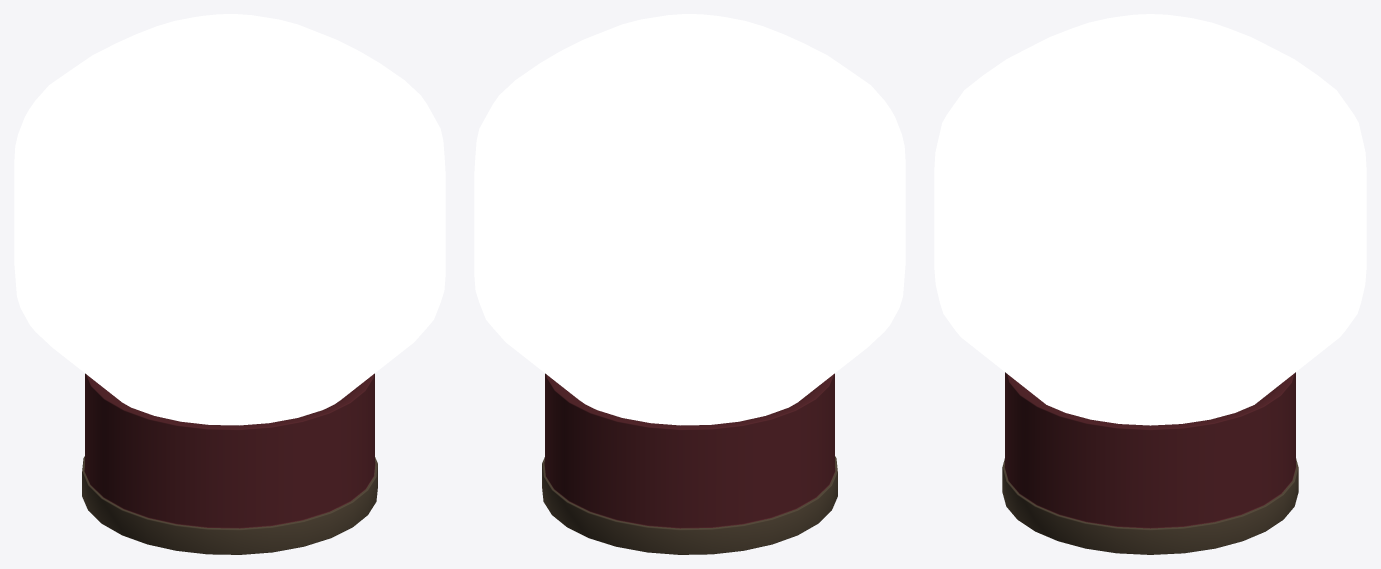
The model's file is light.gltf.
The picture shows the model from 3 angles, left to right: view 1: azimuth 30°, elevation 25°; view 2: azimuth 150°, elevation 25°; view 3: azimuth 270°, elevation 25°; orthographic projection.
Visible parts, largest first — view 1: 台灯02; view 2: 台灯02; view 3: 台灯02.
Boxes of the visible parts, bbox=[...] form: 台灯02: bbox=[14, 14, 445, 554]; 台灯02: bbox=[474, 14, 905, 554]; 台灯02: bbox=[934, 14, 1366, 554].
Bounding box in the file's own units: 0.2332 × 0.2714 × 0.2332.
